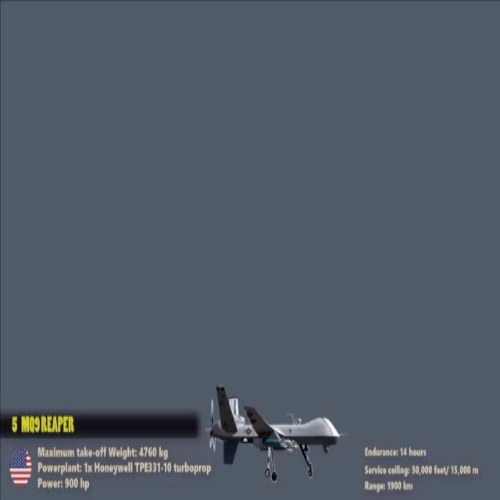uav831: (204, 385, 341, 487)
